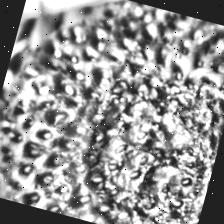Anthracnose Fruit Rot: (42, 39, 224, 224)
